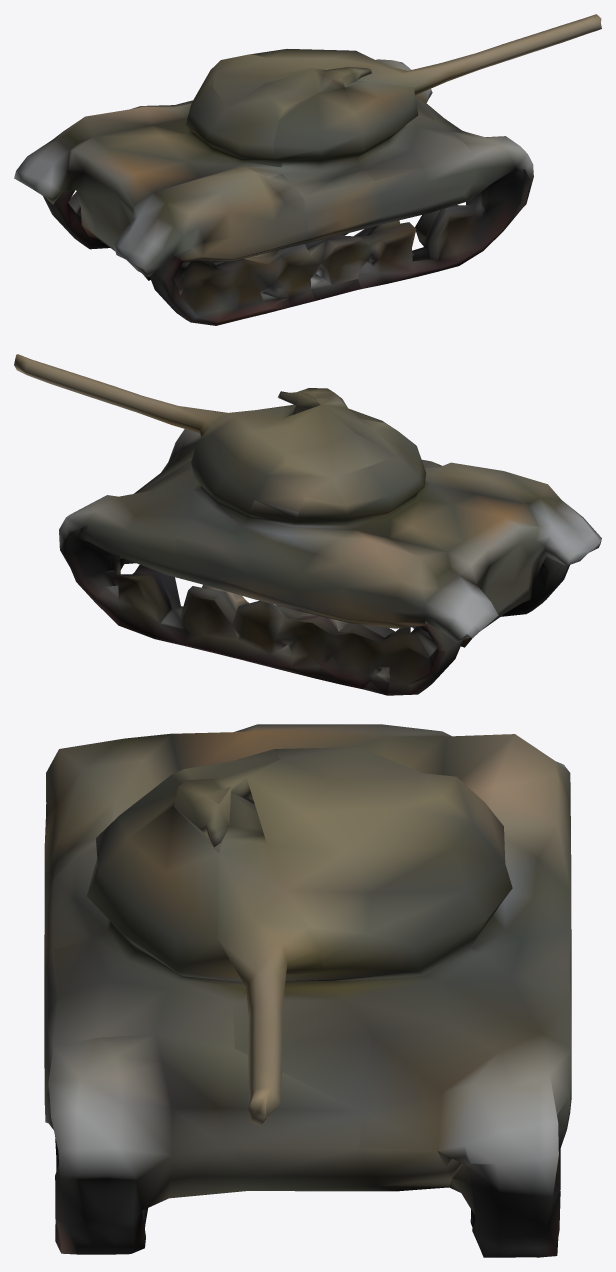
File: 6512341-camouflage-tank-1k.glb
The picture shows the model from 3 angles, top to bottom: view 1: azimuth 30°, elevation 25°; view 2: azimuth 150°, elevation 25°; view 3: azimuth 270°, elevation 25°; orthographic projection. The views are drawn at different scales.
Parts seen in each view (by area): view 1: Retopo_neural_node_b9825a1f-e197-4695-8398-7e4aa108c671; view 2: Retopo_neural_node_b9825a1f-e197-4695-8398-7e4aa108c671; view 3: Retopo_neural_node_b9825a1f-e197-4695-8398-7e4aa108c671.
Part boxes in pixels (bbox=[...]): Retopo_neural_node_b9825a1f-e197-4695-8398-7e4aa108c671: bbox=[14, 14, 601, 325]; Retopo_neural_node_b9825a1f-e197-4695-8398-7e4aa108c671: bbox=[14, 354, 601, 695]; Retopo_neural_node_b9825a1f-e197-4695-8398-7e4aa108c671: bbox=[44, 724, 571, 1257].
Bounding box in the file's own units: 0.9381 × 0.3311 × 0.4179.
